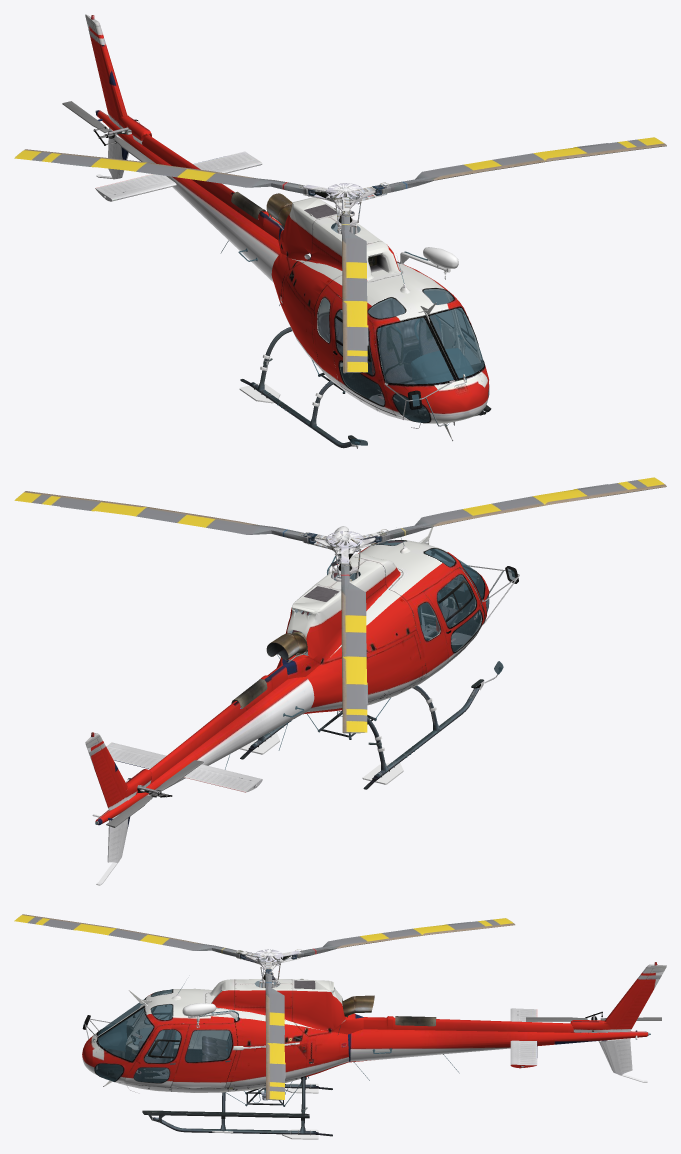
The model's file is as350-tourist.backup.glb.
3 renders of one model, top to bottom at view 1: azimuth 30°, elevation 25°; view 2: azimuth 150°, elevation 25°; view 3: azimuth 270°, elevation 25°, orthographic. The views are drawn at different scales.
Visible parts, largest first — view 1: MainRotor, fuselage_tail, fuselage-main, fuselage_0, fuselage-mid, fuselage_9, fuselage_15, fuselage_13, Door_R_1, fuselage_3, Door_R_0; view 2: fuselage_tail, MainRotor, fuselage-main, fuselage-mid, fuselage_0, Door_R_0, Door_R_1, fuselage_13, fuselage_9; view 3: fuselage_tail, fuselage-main, MainRotor, fuselage-mid, fuselage_0, Door_L_2, fuselage_9, Door_L_0, Front_Door_L_pivot_0, Front_Door_L_pivot_2, fuselage_13, fuselage_3 (+4 smaller).
Boxes of the visible parts, left/top/right/bottom form: MainRotor: left=14, top=137, right=666, bottom=373; fuselage_tail: left=85, top=14, right=345, bottom=393; fuselage-main: left=254, top=206, right=489, bottom=421; fuselage_0: left=95, top=110, right=489, bottom=422; fuselage-mid: left=240, top=193, right=491, bottom=448; fuselage_9: left=366, top=247, right=488, bottom=440; fuselage_15: left=317, top=270, right=422, bottom=366; fuselage_13: left=239, top=247, right=458, bottom=446; Door_R_1: left=331, top=295, right=394, bottom=414; fuselage_3: left=338, top=350, right=429, bottom=422; Door_R_0: left=335, top=310, right=384, bottom=405; fuselage_tail: left=85, top=664, right=376, bottom=885; MainRotor: left=14, top=477, right=666, bottom=733; fuselage-main: left=254, top=545, right=489, bottom=777; fuselage-mid: left=240, top=540, right=484, bottom=789; fuselage_0: left=95, top=537, right=489, bottom=824; Door_R_0: left=437, top=574, right=481, bottom=651; Door_R_1: left=423, top=568, right=484, bottom=661; fuselage_13: left=240, top=526, right=483, bottom=784; fuselage_9: left=362, top=527, right=457, bottom=638; fuselage_tail: left=245, top=962, right=666, bottom=1106; fuselage-main: left=92, top=987, right=363, bottom=1135; MainRotor: left=14, top=914, right=515, bottom=1100; fuselage-mid: left=95, top=978, right=374, bottom=1136; fuselage_0: left=93, top=980, right=650, bottom=1133; Door_L_2: left=171, top=1023, right=244, bottom=1088; fuselage_9: left=82, top=981, right=225, bottom=1122; Door_L_0: left=185, top=1030, right=232, bottom=1062; Front_Door_L_pivot_0: left=134, top=1029, right=180, bottom=1082; Front_Door_L_pivot_2: left=124, top=1024, right=189, bottom=1087; fuselage_13: left=182, top=1003, right=318, bottom=1139; fuselage_3: left=95, top=1048, right=203, bottom=1082.
Size of the model in its own units: 8.28 by 3.29 by 12.27.
18 materials, 16 textured.
